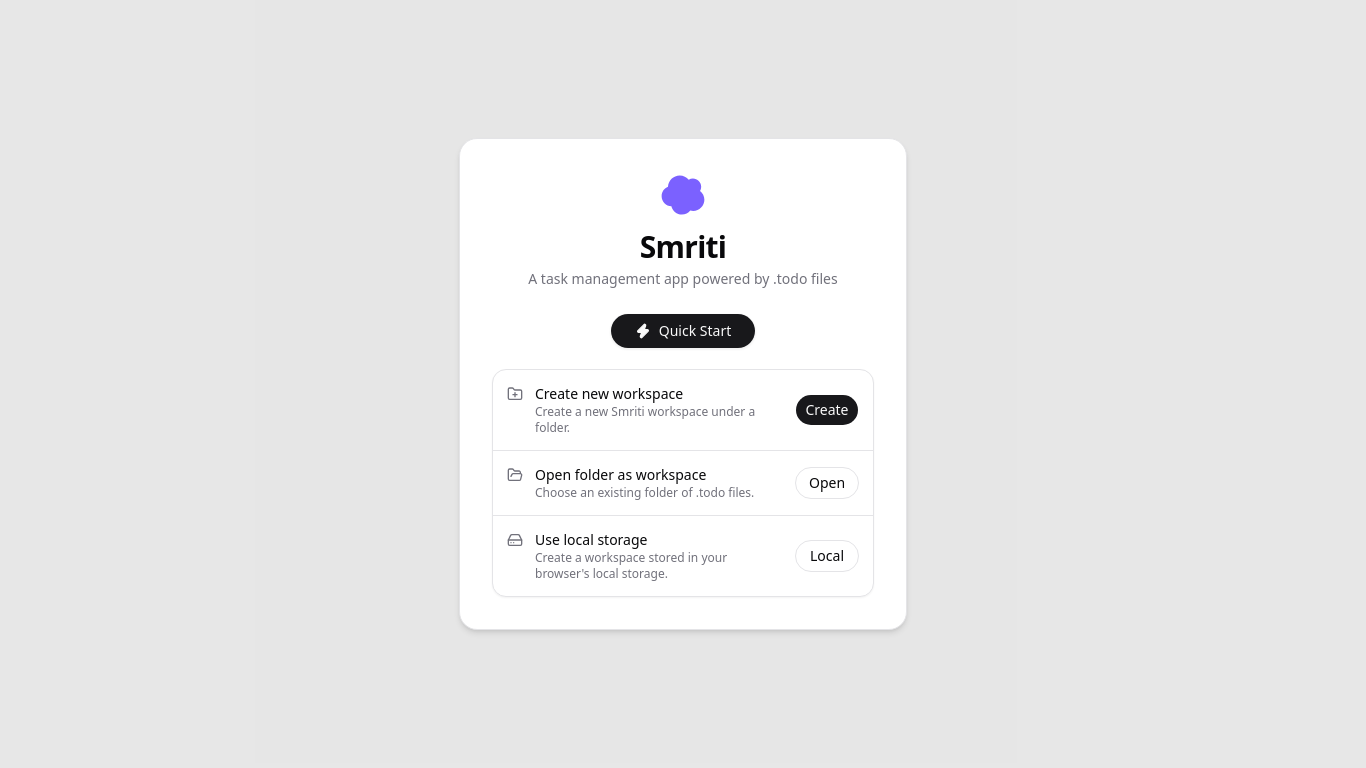
WorkspacePicker › does not remember form values when canceled and re-opened
# Open create-folder, type a name
Click the button "Create".
click(827, 410)  # box [795,394,859,426]
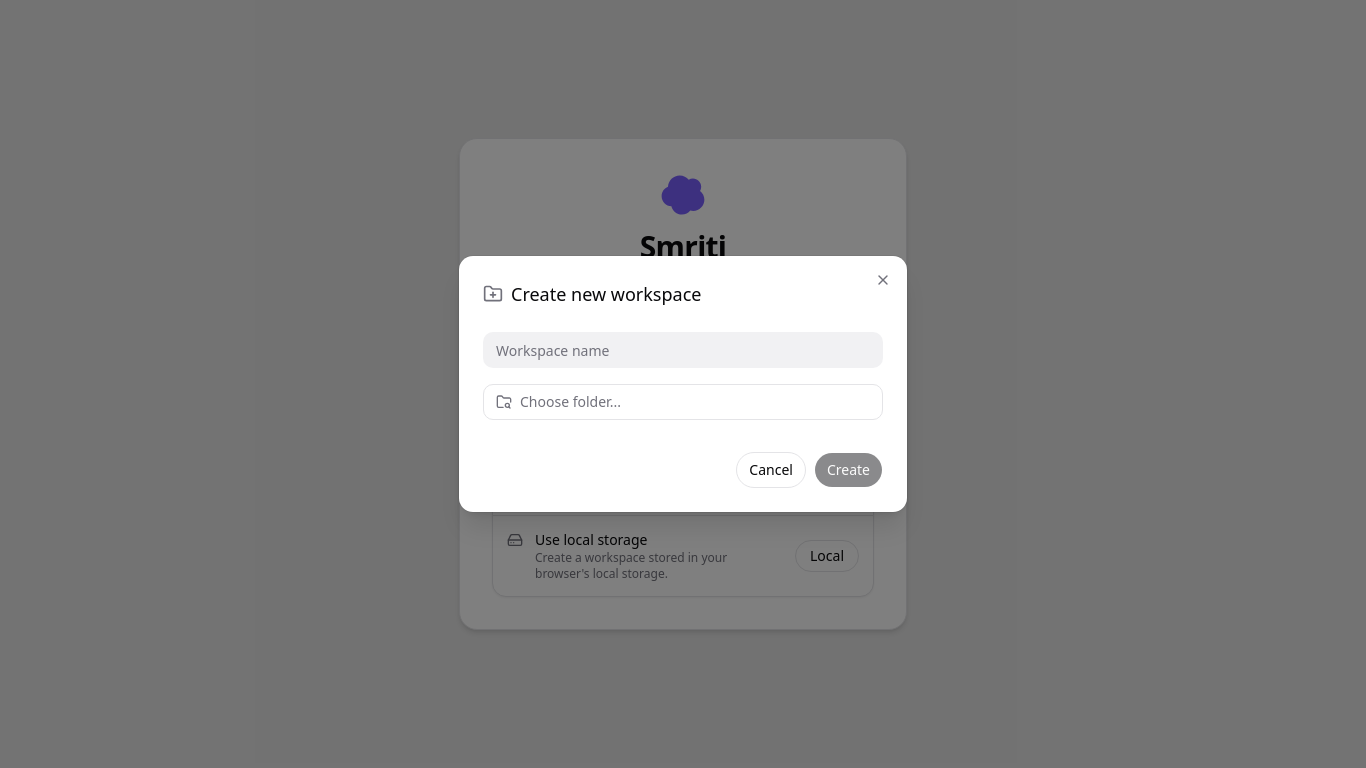
Type "AbandonedWorkspace" into the field with placeholder "Workspace name".
click(683, 350); type("AbandonedWorkspace")  # box [483,332,883,368]
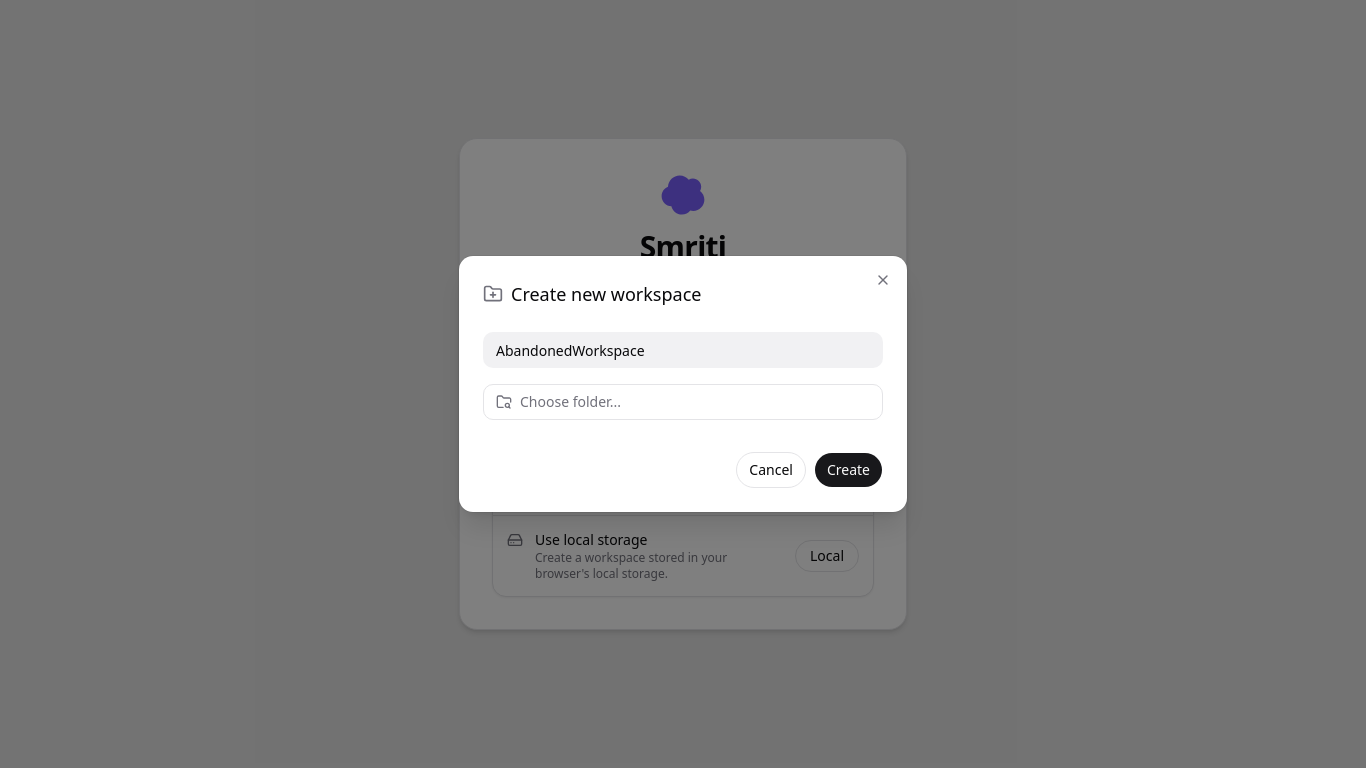
# Click Cancel
Click the button "Cancel".
click(771, 470)  # box [736,452,806,488]
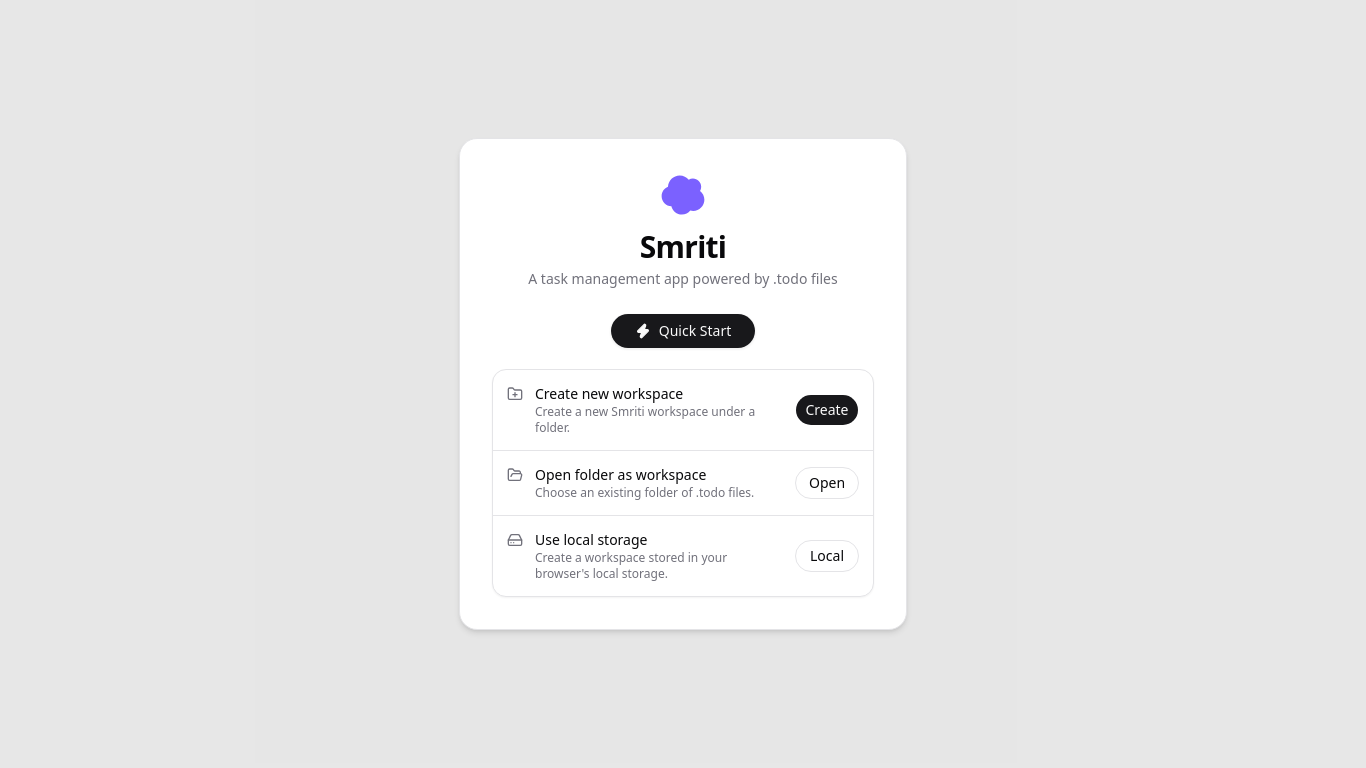
# Re-open create-folder
Click the button "Create".
click(827, 410)  # box [795,394,859,426]
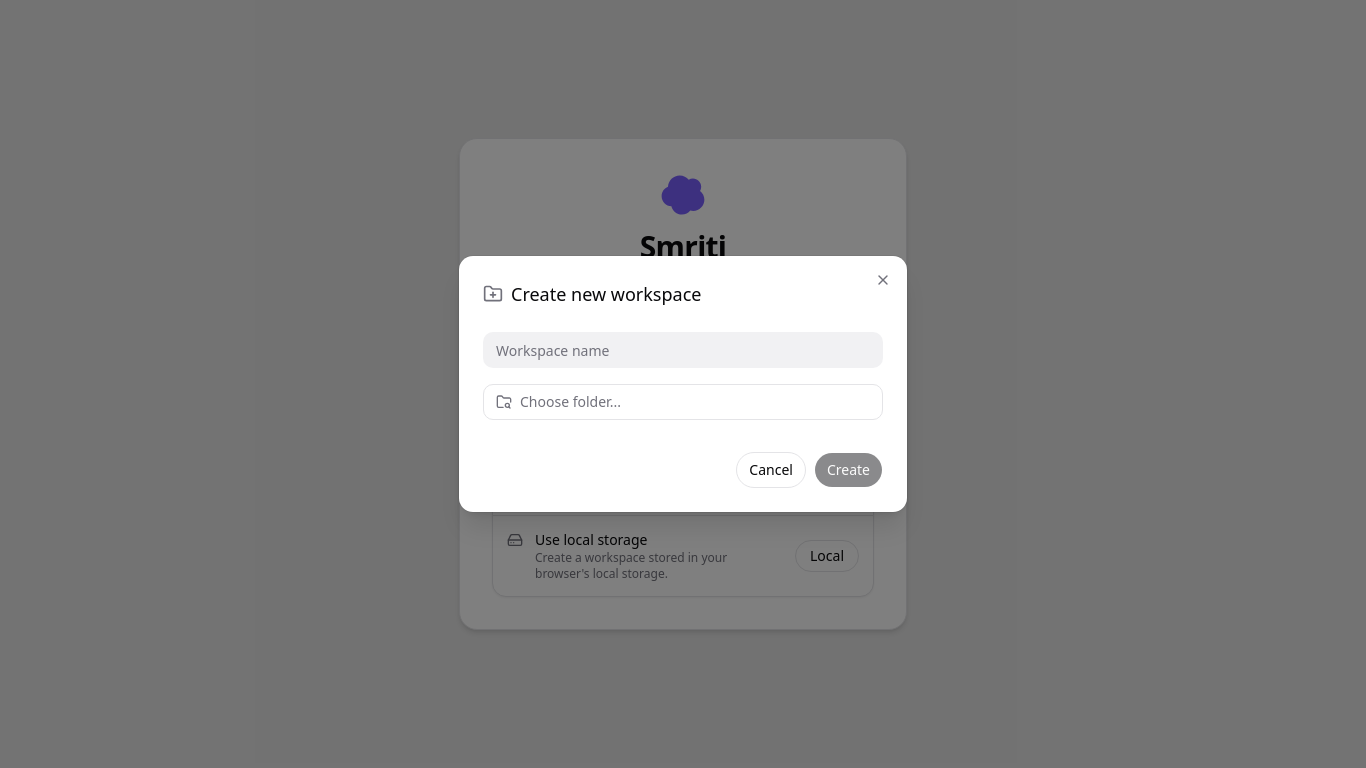
Expected: the field with placeholder "Workspace name" is empty, [483,332,883,368]
Expected: the text "Choose folder..." is shown, [520,392,621,412]
